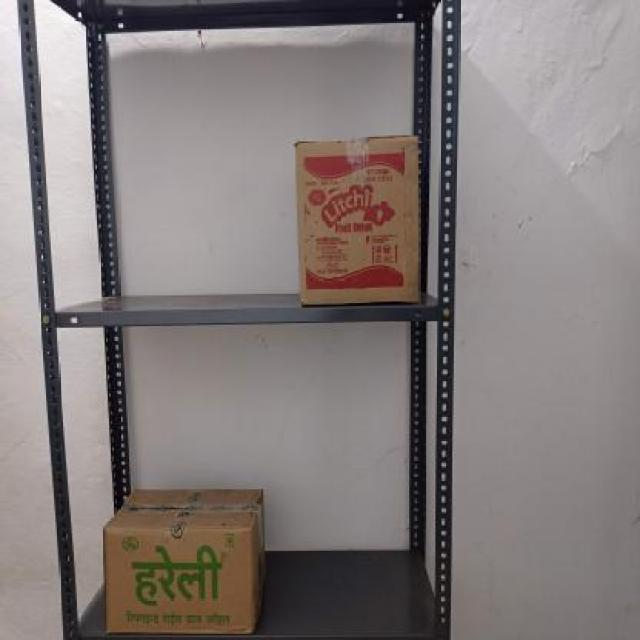box: (298, 137, 424, 299), (104, 525, 258, 633)
